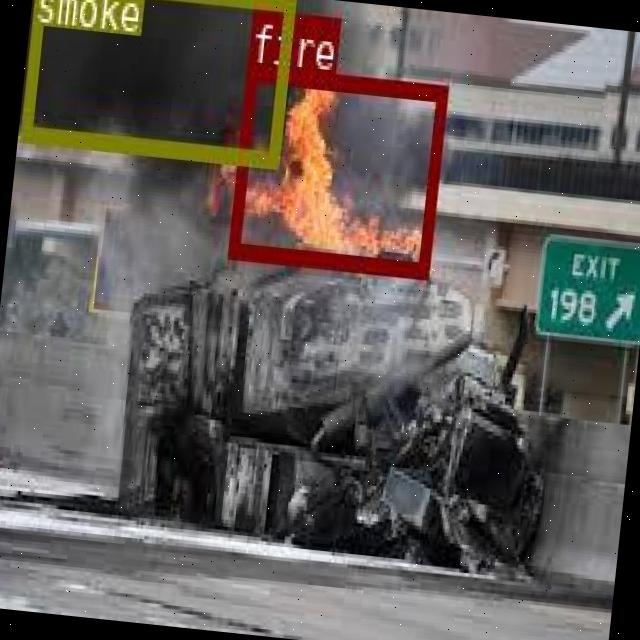fire: (225, 61, 446, 275)
smoke: (18, 0, 293, 162)
